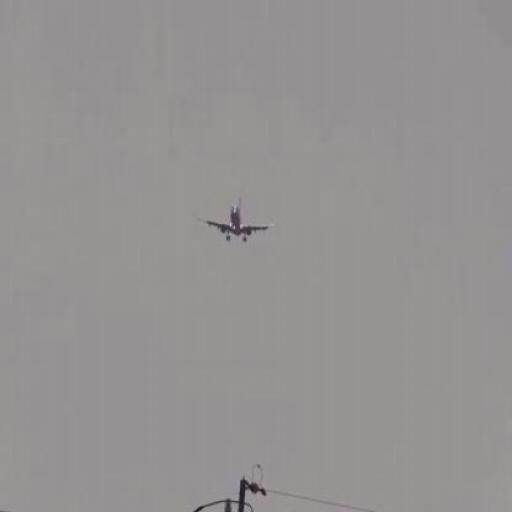aircraft: (198, 197, 278, 244)
